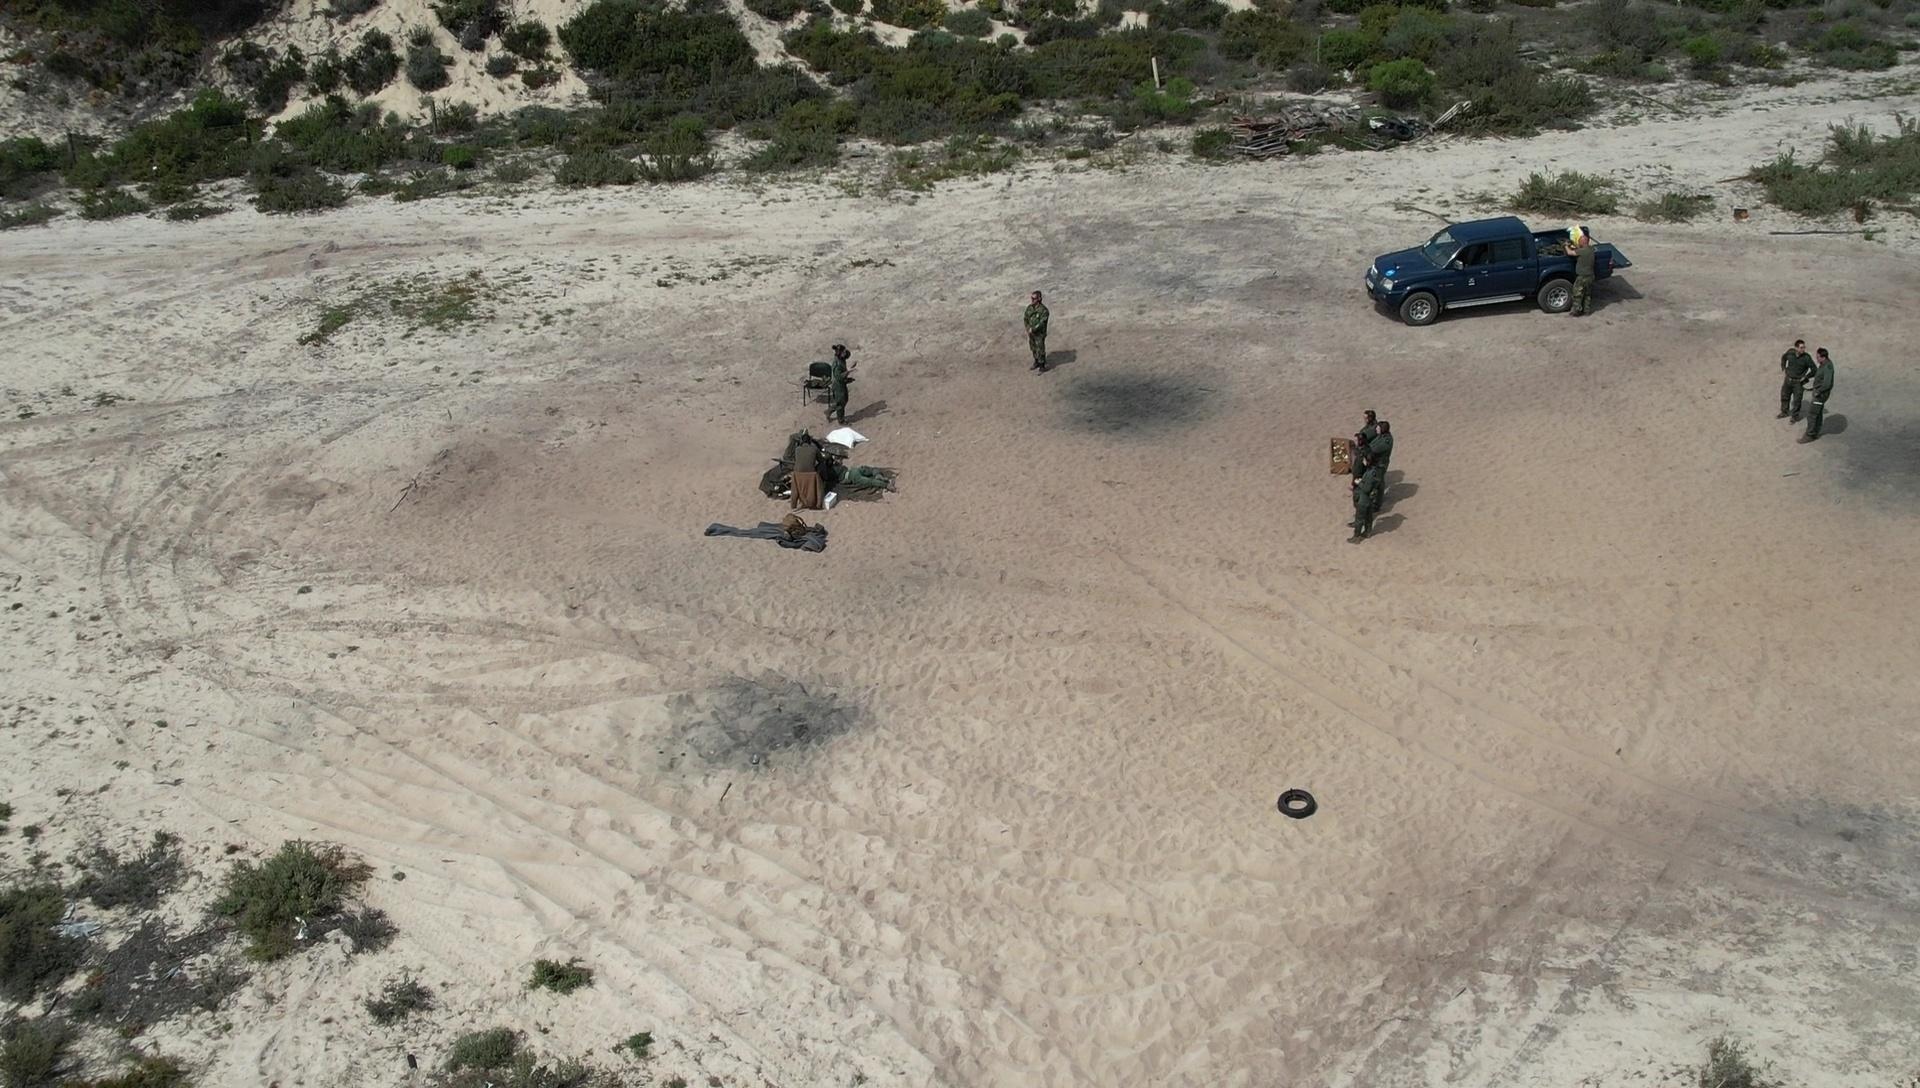Soldier: (1544, 226, 1614, 334), (1797, 339, 1844, 462), (1017, 282, 1065, 386), (816, 446, 891, 510), (1350, 438, 1387, 539), (1778, 332, 1812, 431), (815, 344, 855, 422), (1358, 431, 1395, 509), (785, 440, 823, 499)
